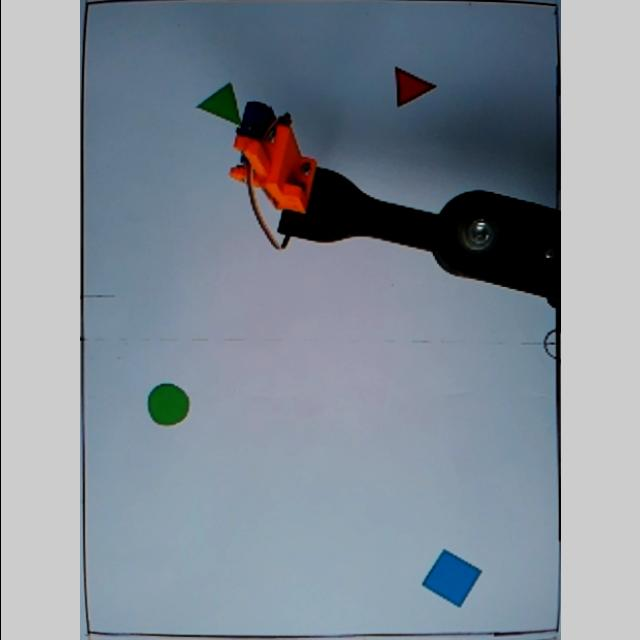blueSquare: (422, 548, 484, 608)
greenCircle: (148, 382, 192, 426)
greenTriangle: (196, 82, 246, 128)
redTriangle: (394, 65, 440, 109)
